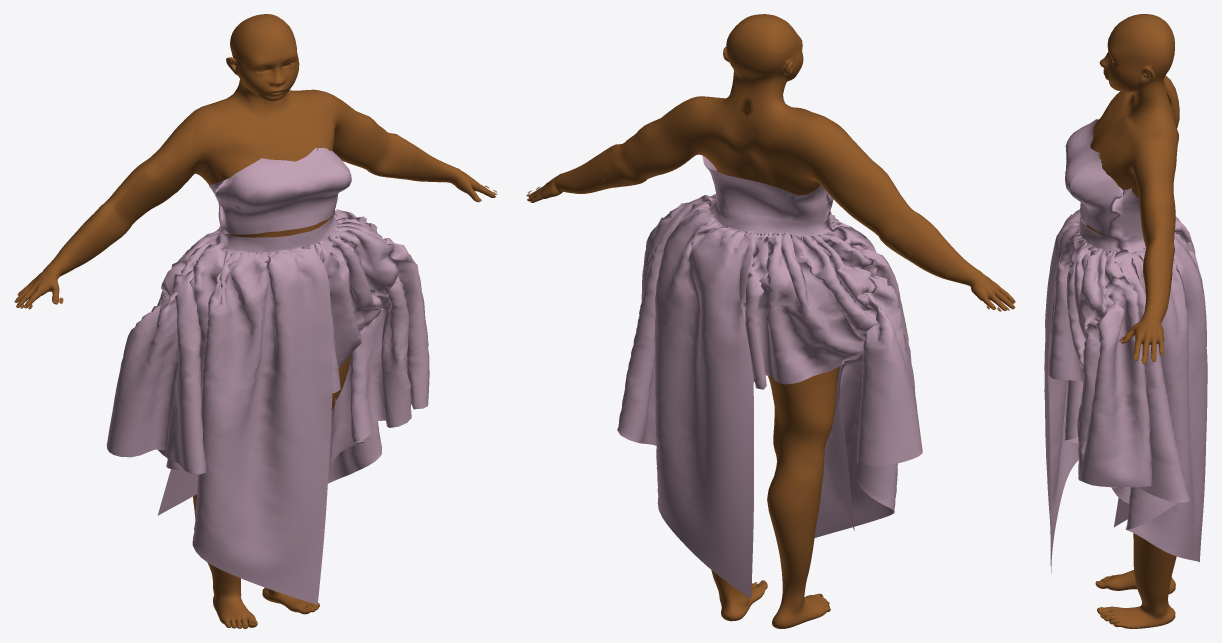
Rendered from dress8.glb.
3 views of the same model, side by side, from view 1: azimuth 30°, elevation 25°; view 2: azimuth 150°, elevation 25°; view 3: azimuth 270°, elevation 25° (orthographic).
Parts seen in each view (by area): view 1: Project 1, Body; view 2: Project 1, Body; view 3: Project 1, Body.
Boxes of the visible parts, x1=… form: Project 1: x1=106, y1=147, x2=429, y2=604; Body: x1=14, y1=14, x2=495, y2=628; Project 1: x1=617, y1=156, x2=922, y2=598; Body: x1=527, y1=14, x2=1015, y2=628; Project 1: x1=1044, y1=119, x2=1207, y2=573; Body: x1=1086, y1=14, x2=1179, y2=628.
Bounding box in the file's own units: 1.59 × 1.88 × 0.4668.
